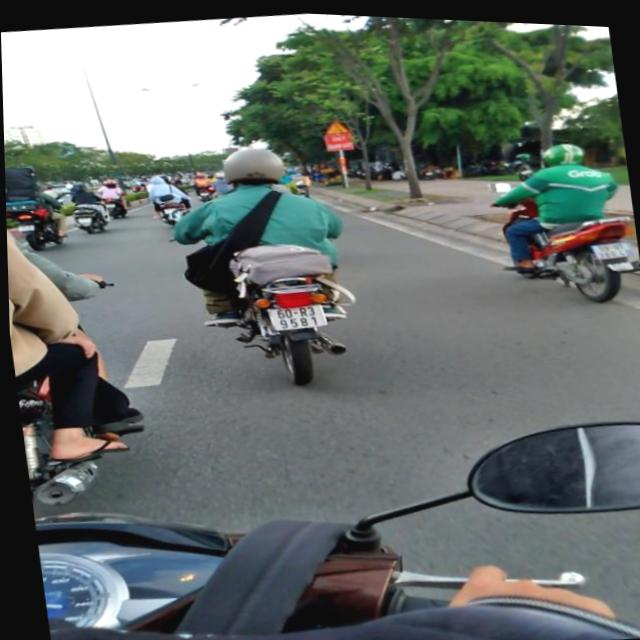Di cham: (321, 115, 352, 132)
